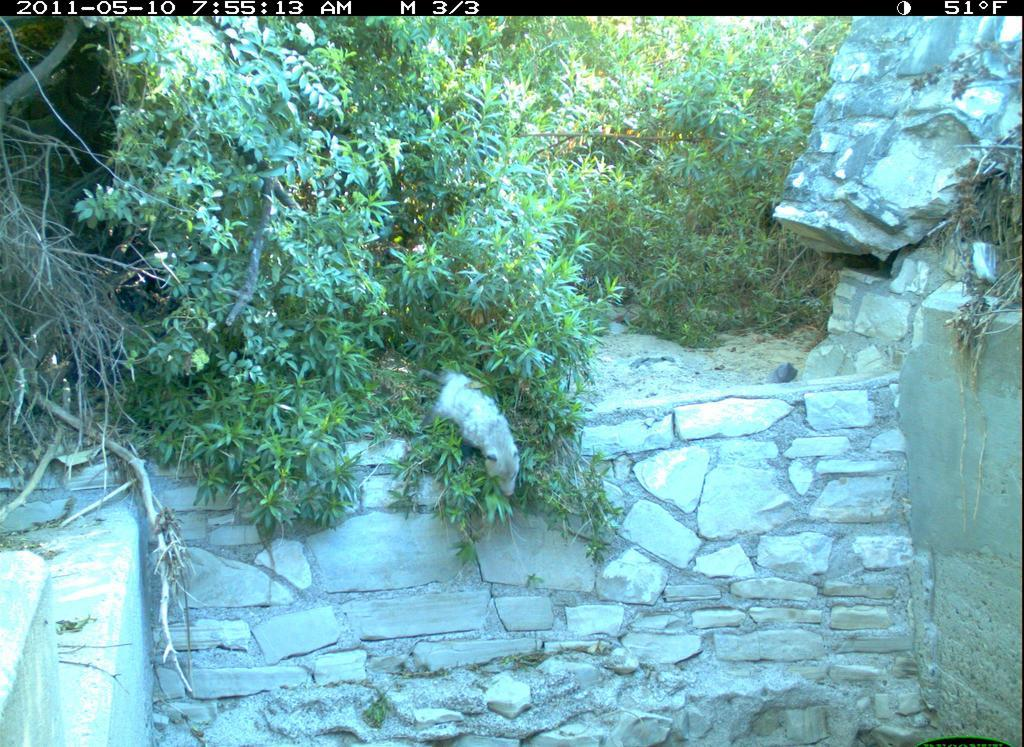opossum: (408, 363, 550, 523)
